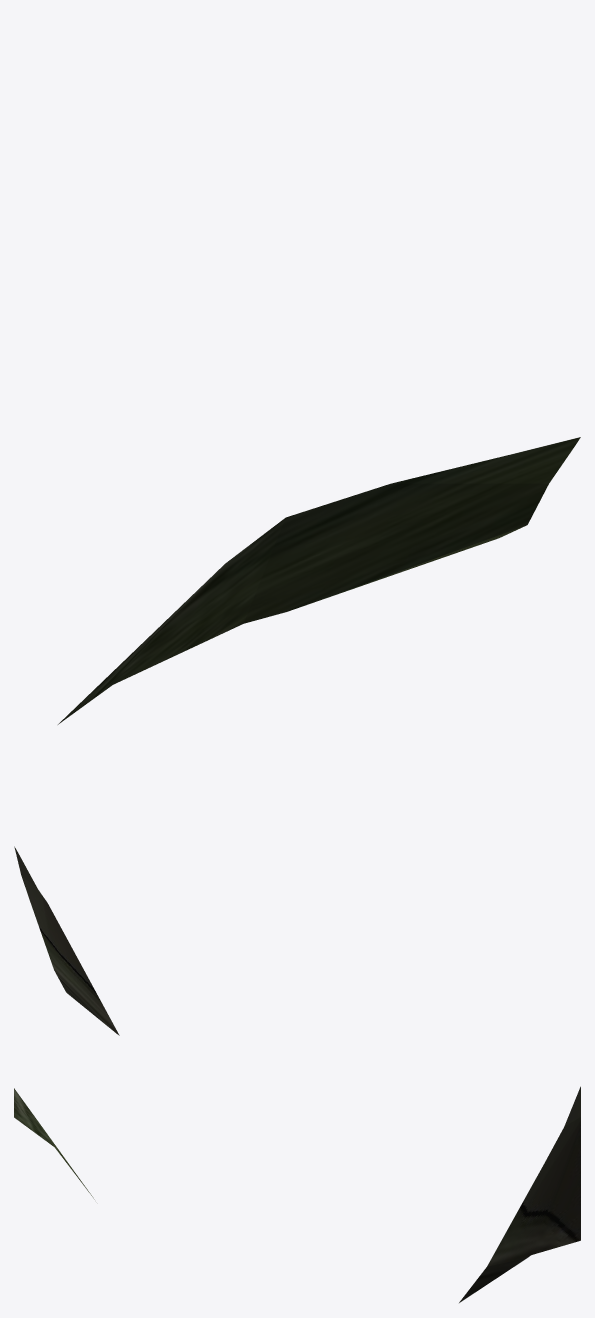
3 renders of one model, top to bottom at view 1: azimuth 30°, elevation 25°; view 2: azimuth 150°, elevation 25°; view 3: azimuth 270°, elevation 25°, orthographic. The views are drawn at different scales.
Size of the model in its own units: 2.29 by 1.25 by 2.95.
1 material, 1 textured.
